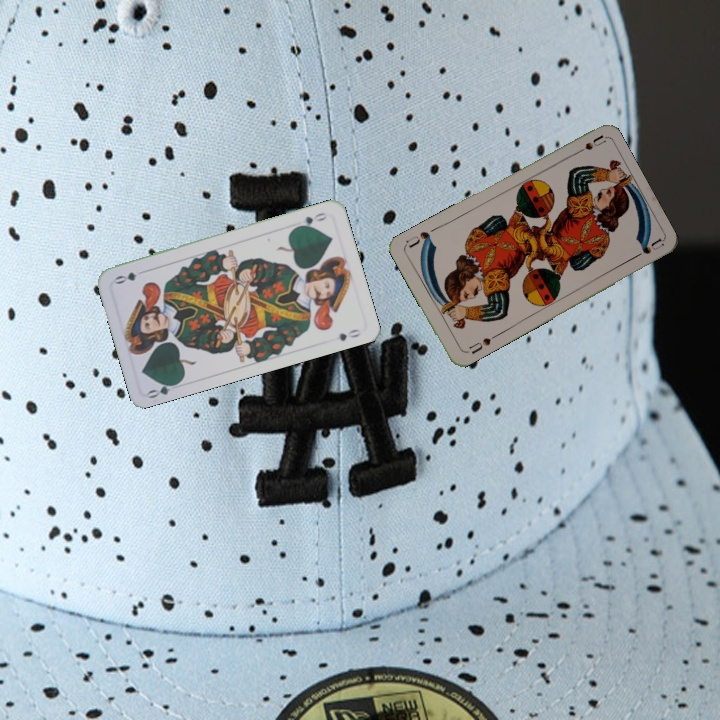GO: (144, 377, 183, 401), (292, 208, 330, 230)
SU: (568, 131, 607, 159), (461, 333, 493, 357)
